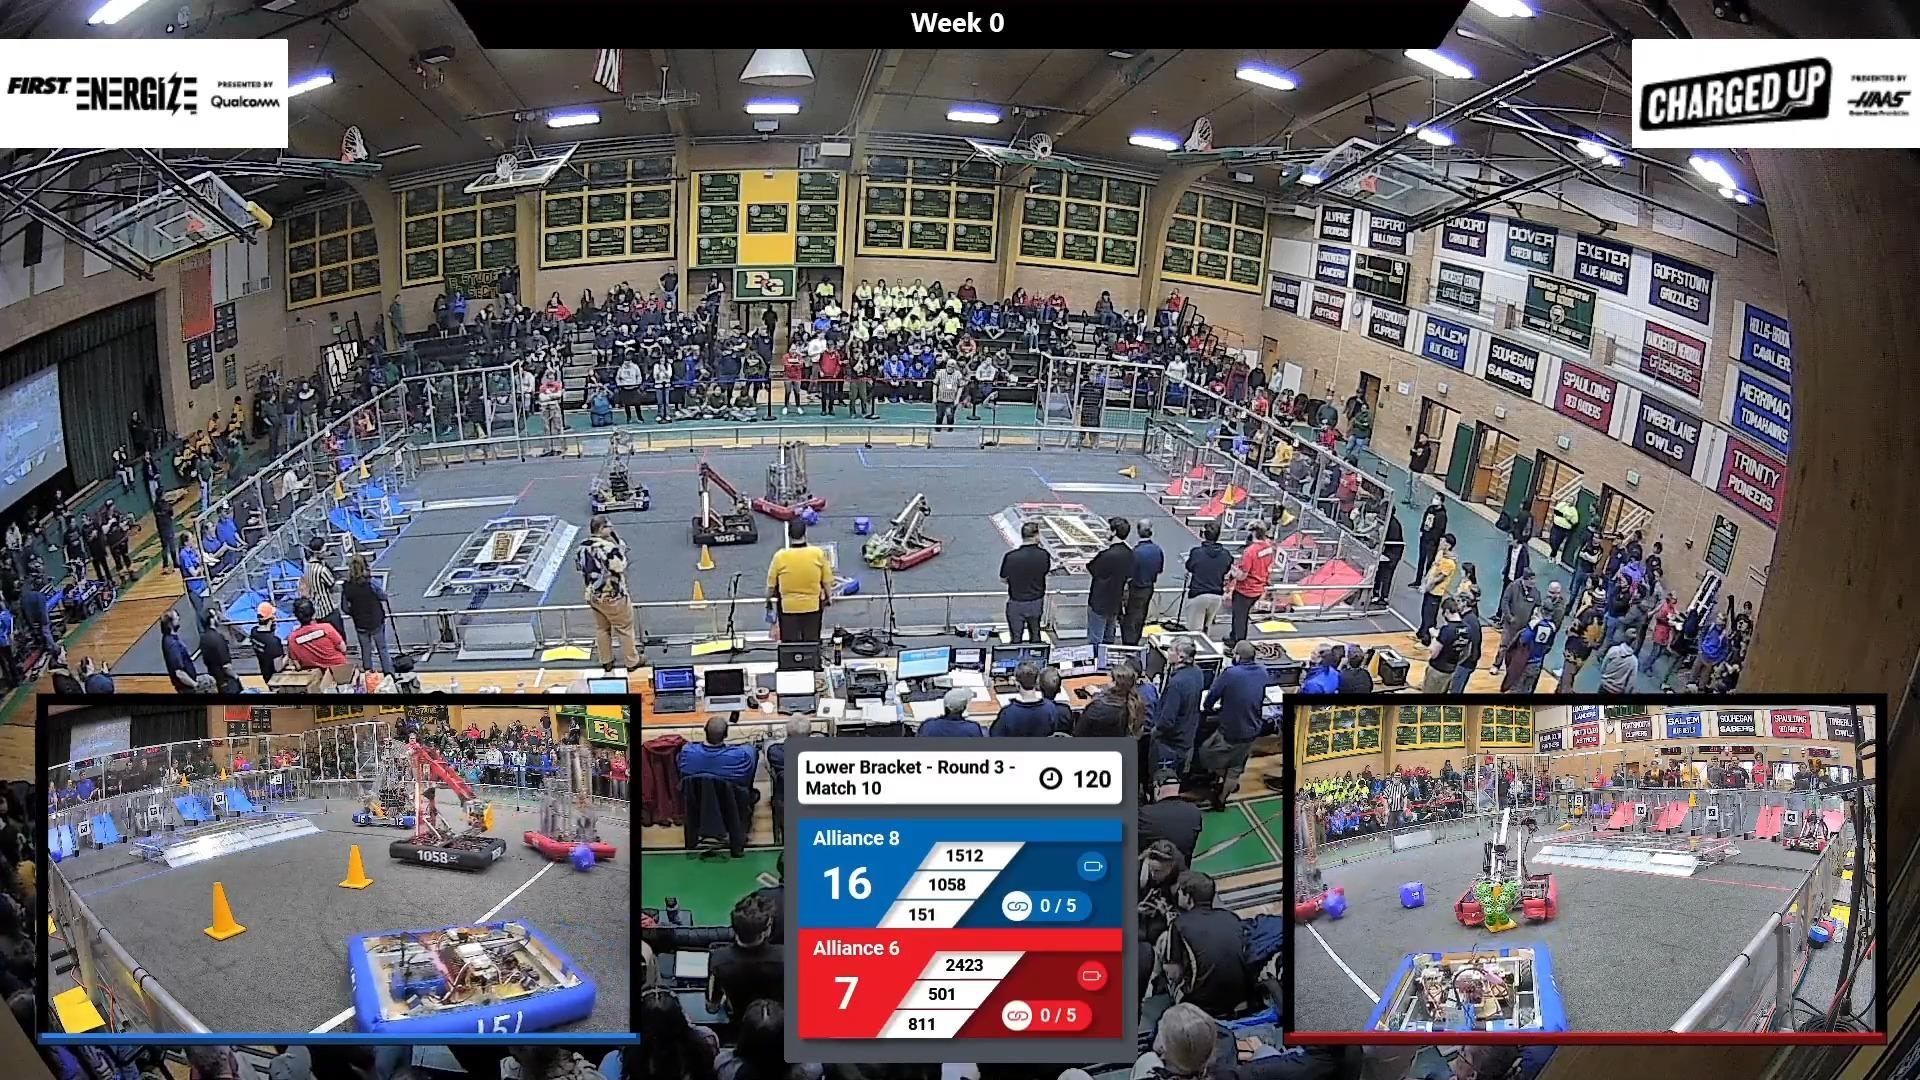robot: (856, 485, 948, 578), (745, 438, 835, 527), (775, 530, 866, 612), (682, 456, 761, 549), (583, 439, 655, 521), (1220, 546, 1295, 621)
